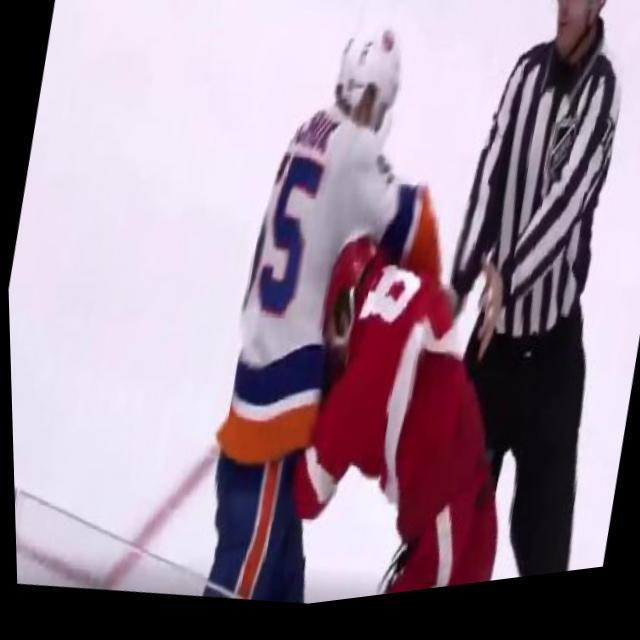fight: (175, 0, 587, 623)
